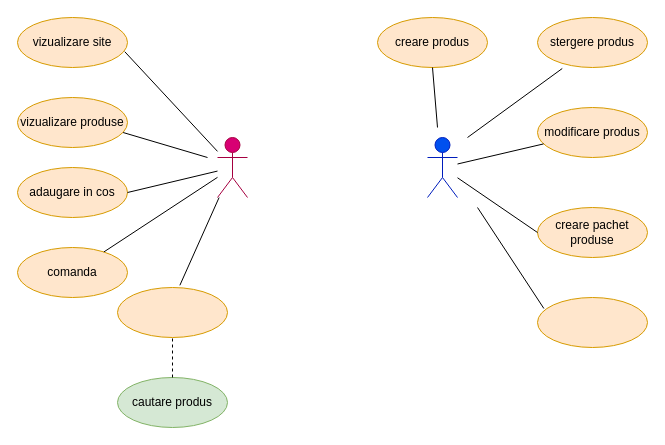
This 665x445 diagram has some shape labels left out. Here are the shapes that lost their labels. From the top down, the centre of each, then its label:
[232,167]: Client
[442,167]: Administrator
[172,312]: cautare
[592,322]: generare rapoarte
